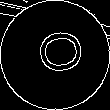O_W: (27, 30, 83, 80)
